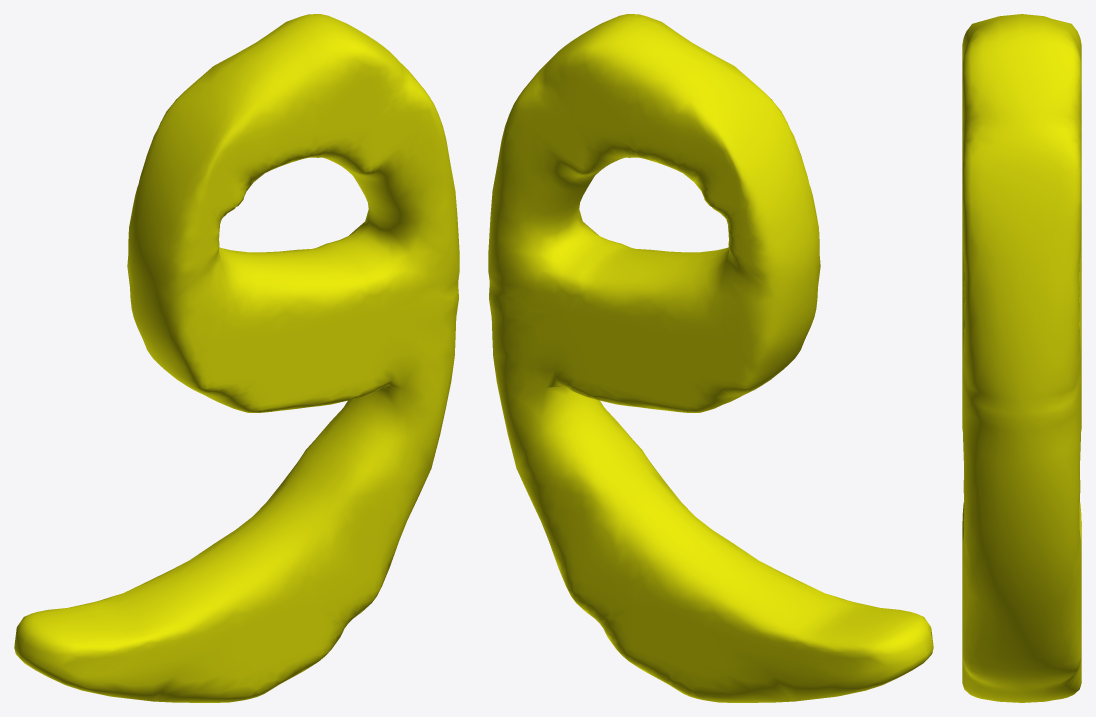
The picture shows the model from 3 angles, left to right: view 1: azimuth 30°, elevation 25°; view 2: azimuth 150°, elevation 25°; view 3: azimuth 270°, elevation 25°; orthographic projection. The views are drawn at different scales.
Visible parts, largest first — view 1: char_1; view 2: char_1; view 3: char_1.
Boxes of the visible parts, left/top/right/bottom form: char_1: left=14, top=14, right=459, bottom=702; char_1: left=488, top=14, right=933, bottom=702; char_1: left=962, top=14, right=1081, bottom=702.
Bounding box in the file's own units: 4.62 × 6.62 × 1.
